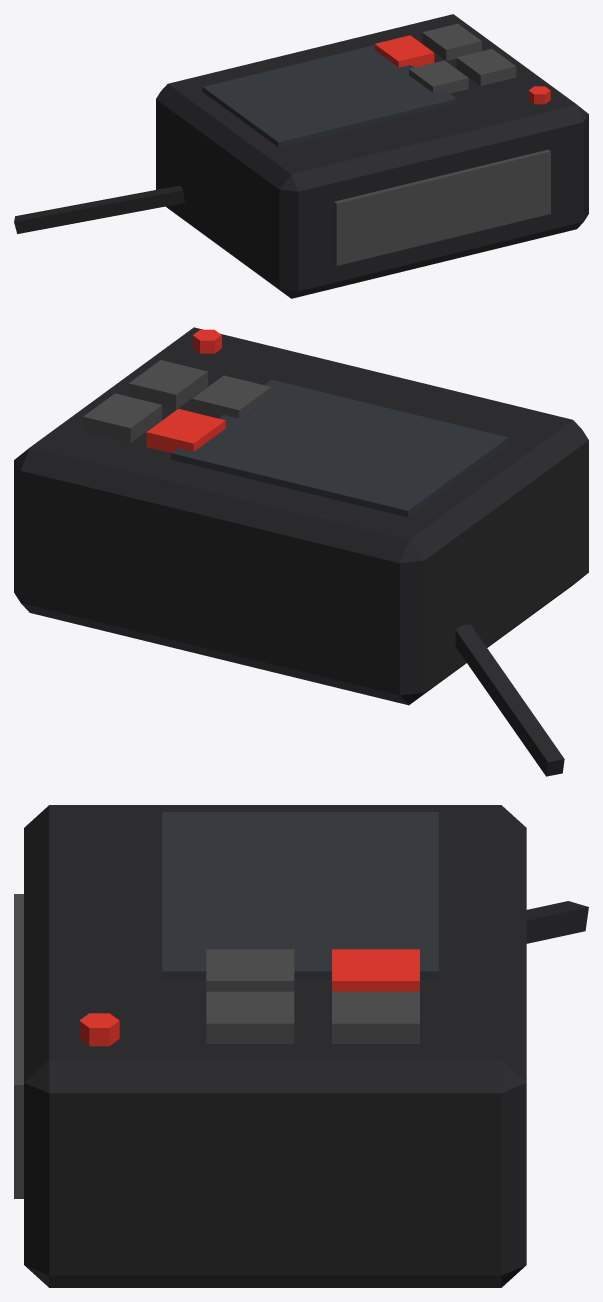
The model's file is room.answering-machine.glb.
3 renders of one model, top to bottom at view 1: azimuth 30°, elevation 25°; view 2: azimuth 150°, elevation 25°; view 3: azimuth 270°, elevation 25°, orthographic. The views are drawn at different scales.
Parts seen in each view (by area): view 1: body, speaker, lid, cord, key3, key1, key2, key0, lamp; view 2: body, lid, cord, key1, key3, key0, key2, lamp; view 3: body, lid, key3, key1, key2, key0, speaker, cord, lamp.
Part boxes in pixels (left/top/right/bottom): body: left=156, top=14, right=588, bottom=298; speaker: left=334, top=149, right=550, bottom=265; lid: left=202, top=45, right=456, bottom=147; cord: left=14, top=185, right=184, bottom=233; key3: left=456, top=49, right=516, bottom=86; key1: left=422, top=23, right=481, bottom=60; key2: left=409, top=60, right=468, bottom=93; key0: left=374, top=35, right=434, bottom=67; lamp: left=528, top=86, right=550, bottom=104; body: left=14, top=327, right=588, bottom=705; lid: left=171, top=379, right=508, bottom=517; cord: left=455, top=624, right=564, bottom=776; key1: left=83, top=393, right=162, bottom=442; key3: left=128, top=360, right=207, bottom=409; key0: left=146, top=409, right=225, bottom=452; key2: left=192, top=375, right=271, bottom=418; lamp: left=192, top=329, right=221, bottom=353; body: left=24, top=805, right=526, bottom=1287; lid: left=162, top=812, right=438, bottom=980; key3: left=206, top=991, right=294, bottom=1043; key1: left=332, top=991, right=419, bottom=1043; key2: left=206, top=949, right=294, bottom=991; key0: left=332, top=949, right=419, bottom=991; speaker: left=14, top=894, right=23, bottom=1198; cord: left=526, top=901, right=588, bottom=943; lamp: left=79, top=1013, right=119, bottom=1046.
Size of the model in its own units: 0.3638 by 0.1139 by 0.2288.
